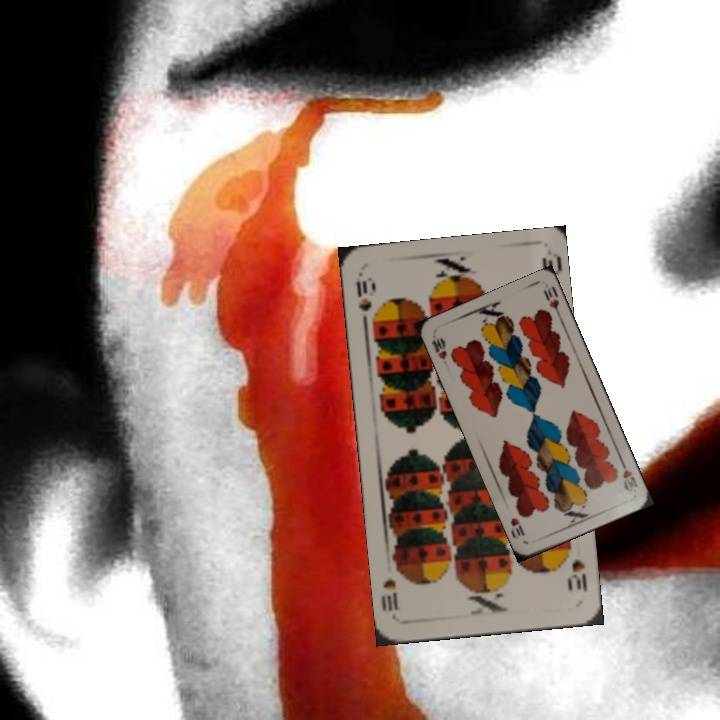H10: (616, 456, 641, 495), (427, 334, 449, 362)
S10: (561, 541, 590, 594), (352, 273, 376, 314)
